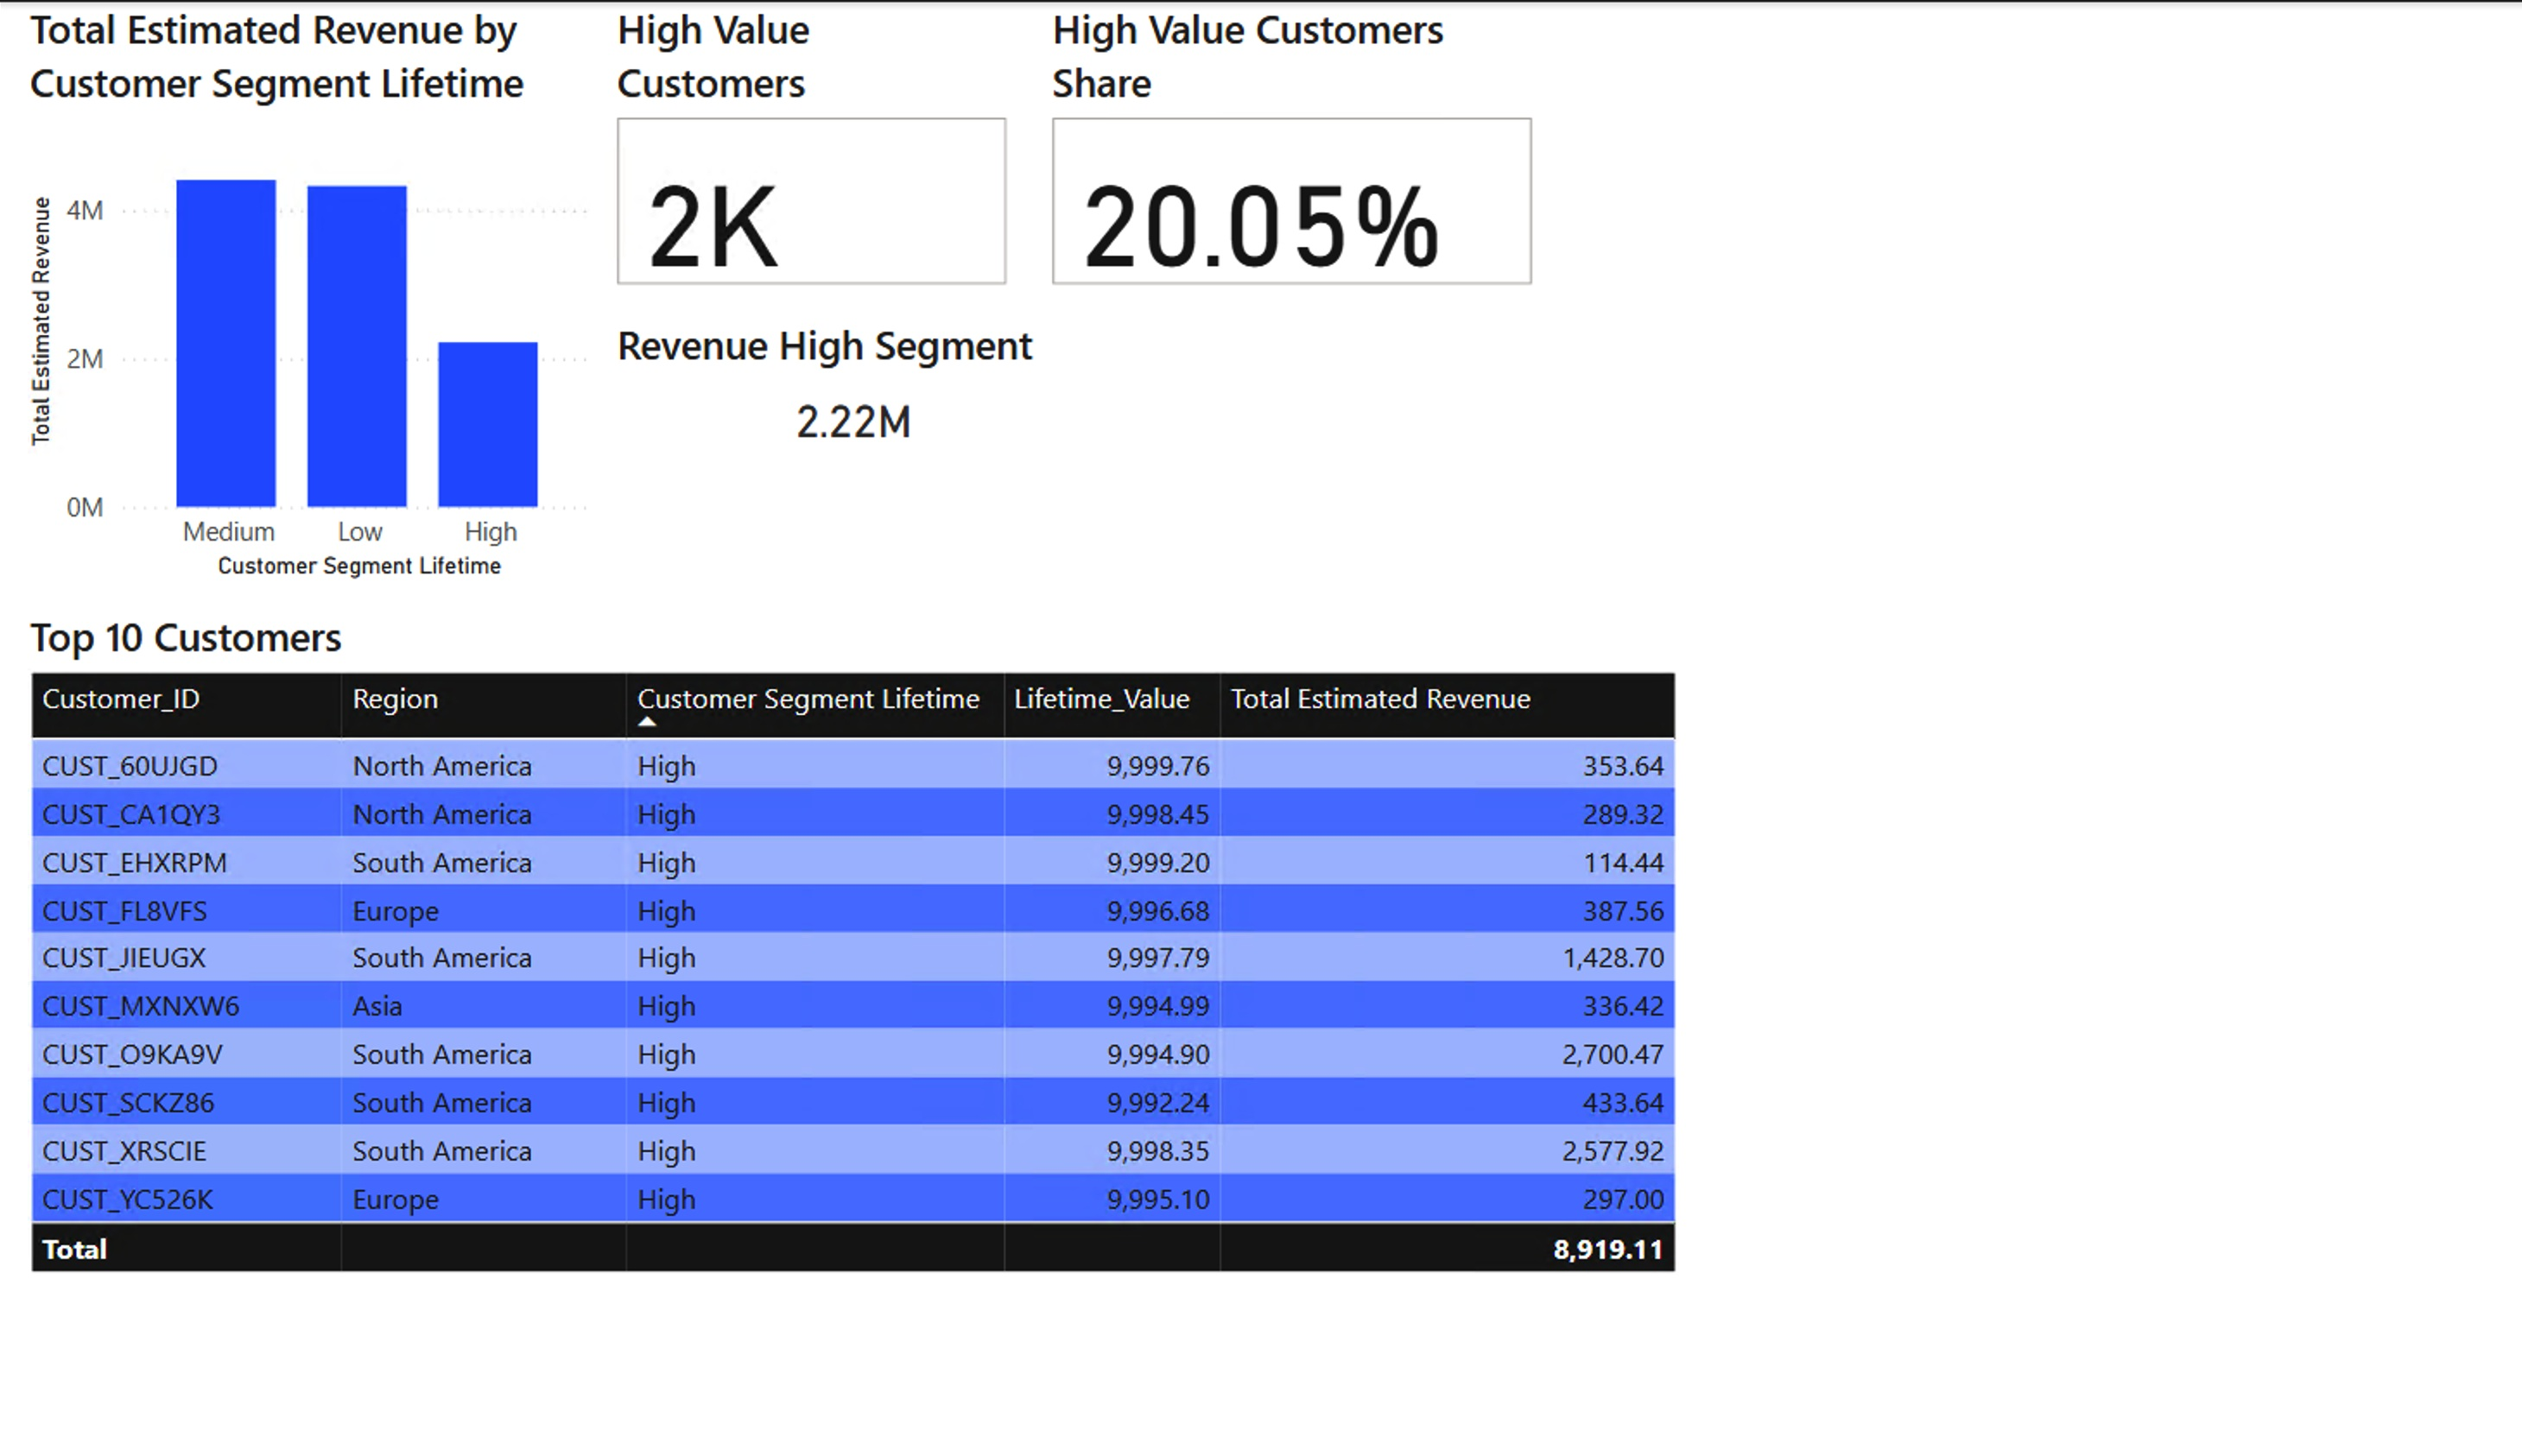

What the dashboard file says about the page in this screenshot:
{"tool":"powerbi","page":{"name":"Customer Insights","canvas":[1280,720],"ordinal":3},"visuals":[{"type":"clusteredColumnChart","fields":{"Category":["DIM_Customer.Customer Segment Lifetime"],"Y":["FACT_Sales.Total Estimated Revenue"]},"box":[10,0,280,280],"z":0},{"type":"cardVisual","title":"High Value Customers","fields":{"Data":["FACT_Sales.HighValue Customers Count"]},"box":[290.3,0,196.4,140],"z":1000},{"type":"cardVisual","title":"High Value Customers Share","fields":{"Data":["FACT_Sales.HighValue Customers Share"]},"box":[497.8,0,239.8,140.1],"z":2000},{"type":"tableEx","title":"Top 10 Customers","fields":{"Values":["DIM_Customer.Customer_ID","DIM_Customer.Region","DIM_Customer.Customer Segment Lifetime","DIM_Customer.Lifetime_Value","FACT_Sales.Total Estimated Revenue"]},"box":[10.2,290.3,795.7,341.9],"z":3000},{"type":"card","title":"Revenue High Segment","fields":{"Values":["FACT_Sales.Revenue High Segment"]},"box":[290.1,150.8,235.7,73.4],"z":3001}]}

Visuals, with their boxes in screenshot pixels (x1, y1, x2, y2), scaled from the page's 1280x720 canvas onto the 2522x1456 screenshot:
clusteredColumnChart - DIM_Customer.Customer Segment Lifetime x FACT_Sales.Total Estimated Revenue: (left=20, top=0, right=572, bottom=567)
"High Value Customers" cardVisual: (left=572, top=0, right=959, bottom=283)
"High Value Customers Share" cardVisual: (left=981, top=0, right=1454, bottom=283)
"Top 10 Customers" tableEx: (left=20, top=587, right=1587, bottom=1278)
"Revenue High Segment" card: (left=572, top=305, right=1036, bottom=453)
